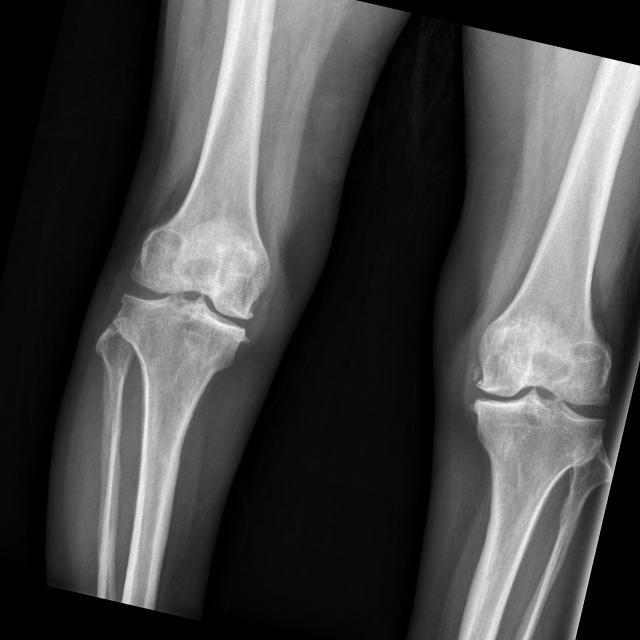Knee: (106, 214, 274, 378), (452, 318, 622, 468)
